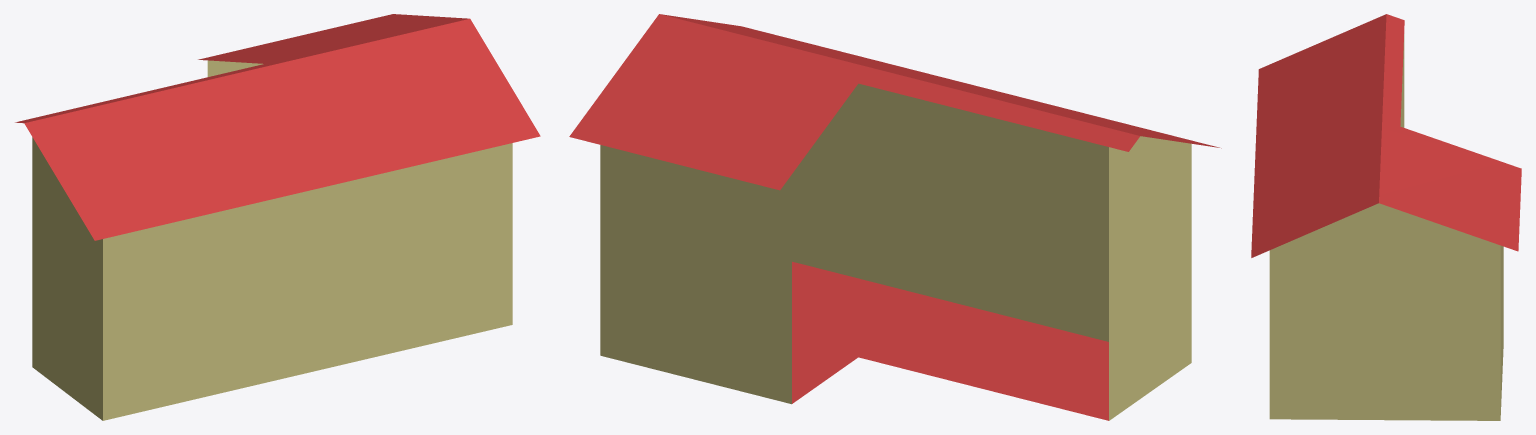
3 views of the same model, side by side, from view 1: azimuth 30°, elevation 25°; view 2: azimuth 150°, elevation 25°; view 3: azimuth 270°, elevation 25° (orthographic). The views are drawn at different scales.
Bounding box in the file's own units: 12.42 × 7.43 × 6.8.
